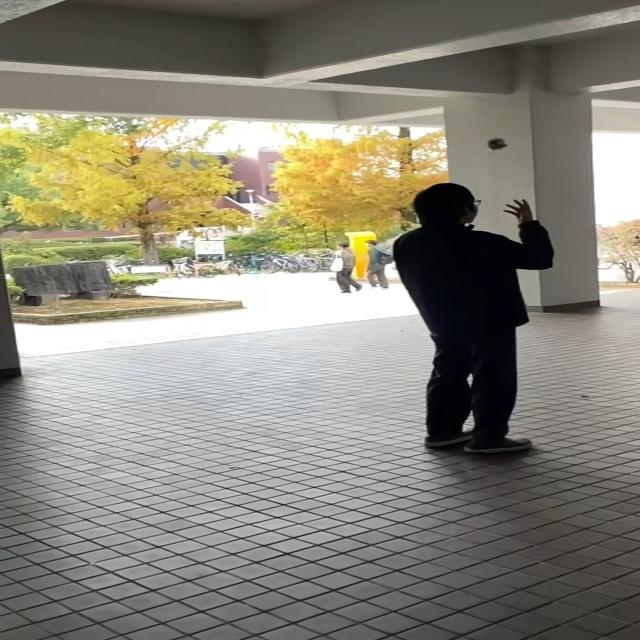paper: (488, 136, 506, 150)
